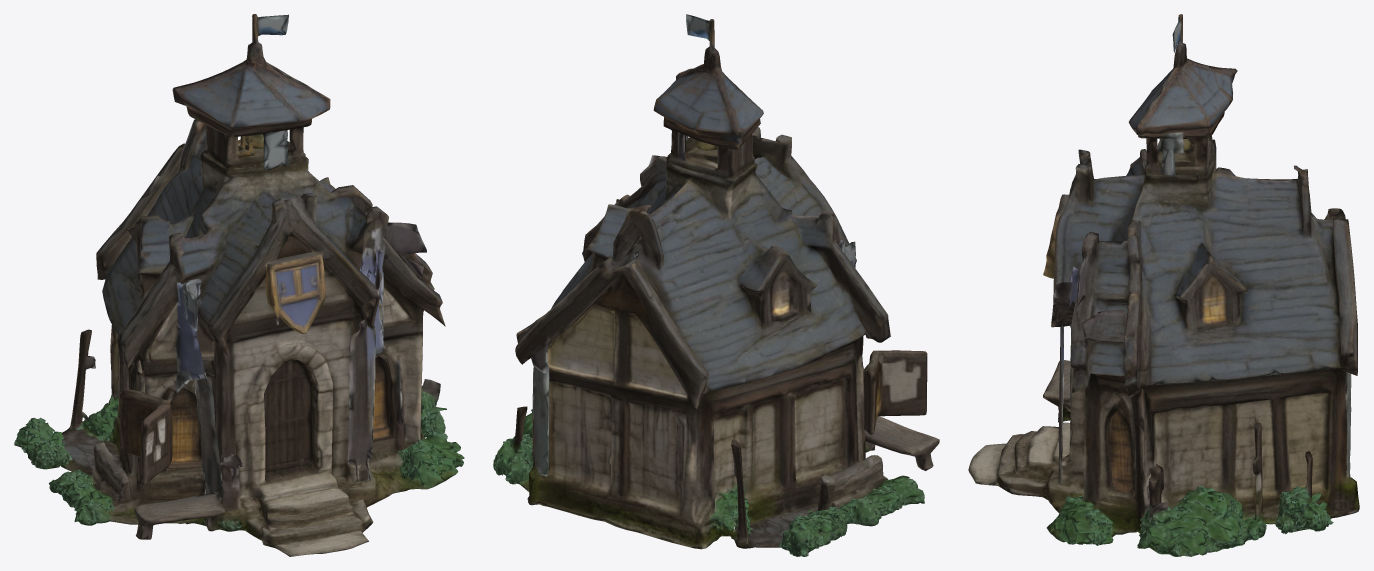
File: town_hall.glb
3 renders of one model, left to right at view 1: azimuth 30°, elevation 25°; view 2: azimuth 150°, elevation 25°; view 3: azimuth 270°, elevation 25°, orthographic.
Visible parts, largest first — view 1: town_hall_s7_fit; view 2: town_hall_s7_fit; view 3: town_hall_s7_fit.
Part boxes in pixels (x1,y1,x2,y2): town_hall_s7_fit: [14, 14, 464, 556]; town_hall_s7_fit: [493, 14, 939, 556]; town_hall_s7_fit: [968, 14, 1359, 556].
Bounding box in the file's own units: 4.09 × 4.76 × 3.64.
Materials: 1 (1 with a texture image).
